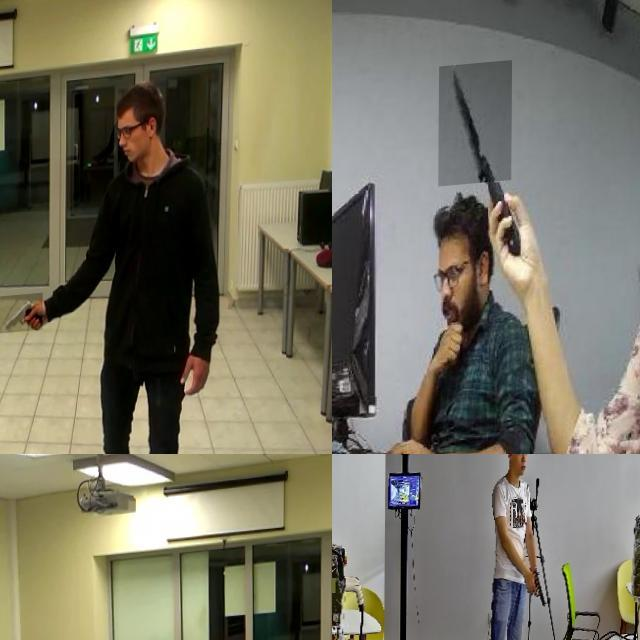-: (438, 69, 512, 194)
gun-knife-thesis - v11 Yolov5 augmented: (0, 299, 43, 339), (523, 574, 548, 616), (332, 454, 343, 474)
